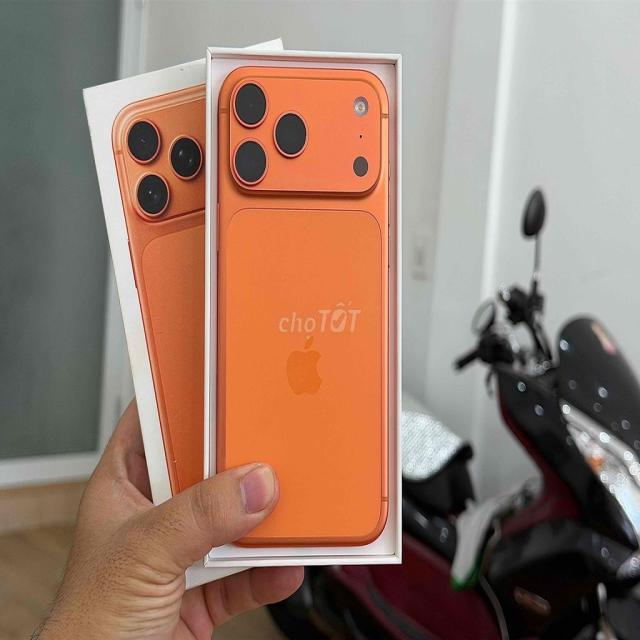gen_17: (208, 59, 396, 552)
